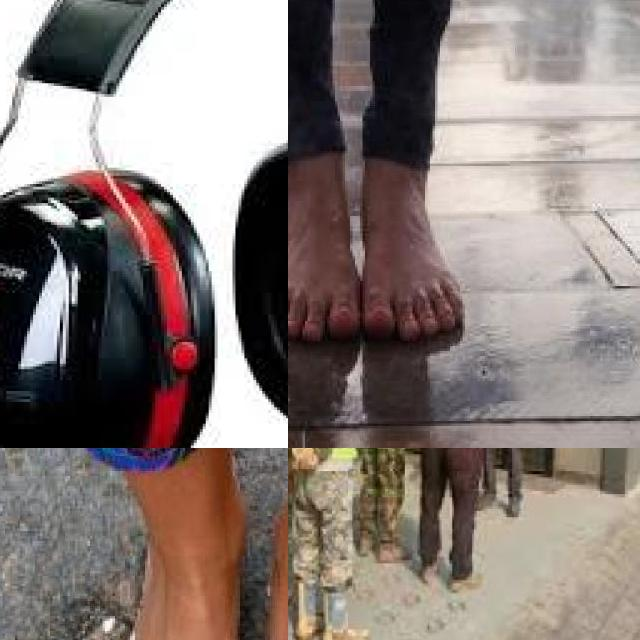Barefoots: (362, 110, 484, 350), (116, 518, 254, 640), (288, 105, 355, 350)
Ear-protection: (0, 0, 288, 448)
